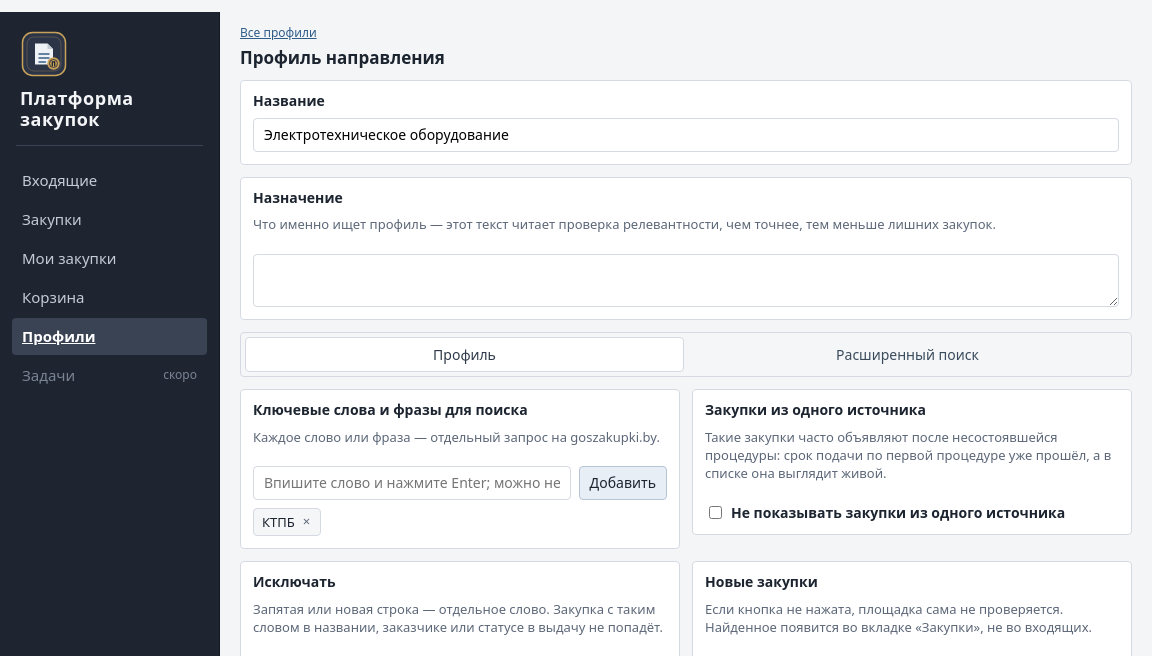
Test case: ProfileApp › saves a pending word before turning watch on
Type "НКУ" into the field named "Добавить слово" at (412, 483), box x1=253 y1=466 x2=571 y2=500
(page scrolled)
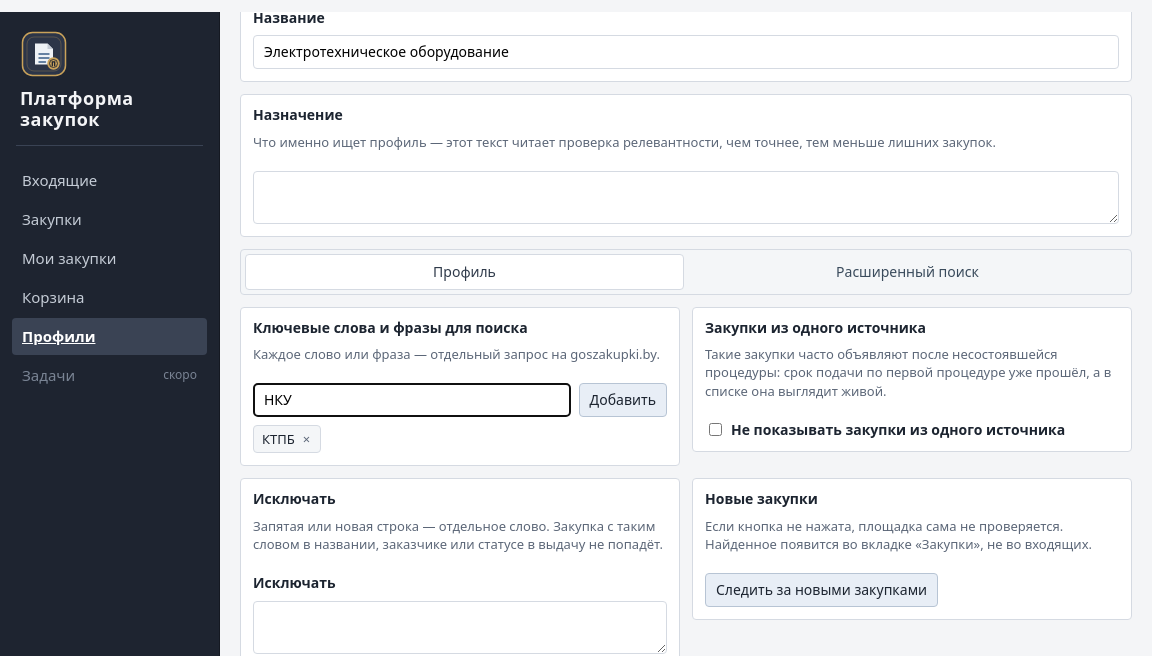
Click the button "Следить за новыми закупками" at (822, 590), box x1=705 y1=573 x2=938 y2=607
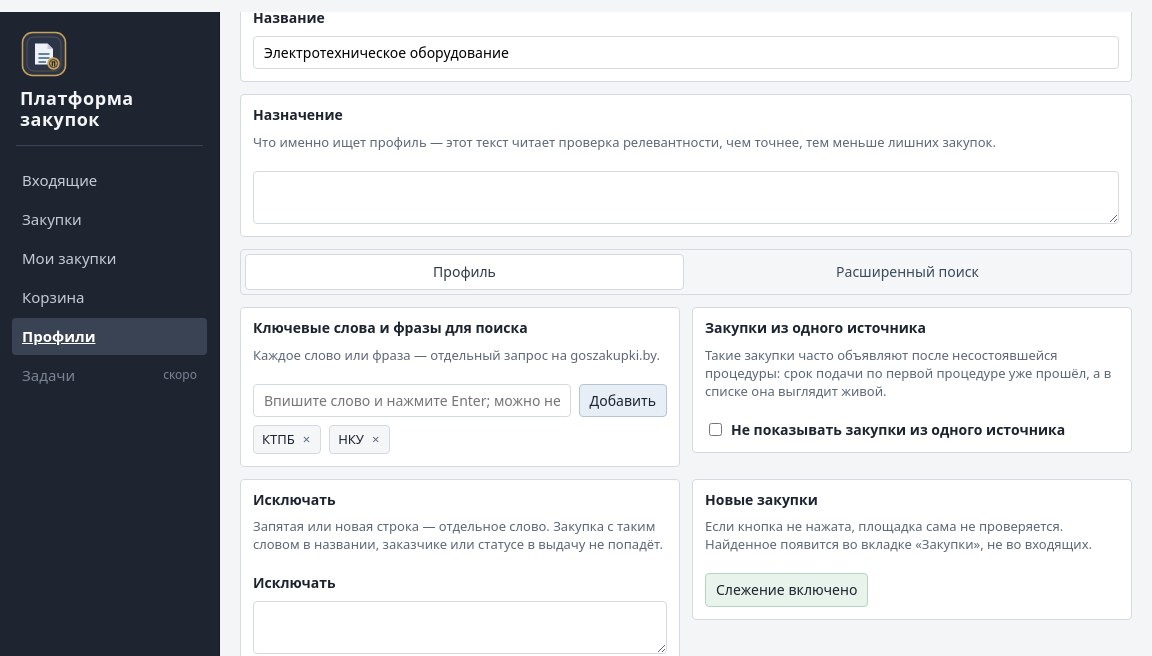
Expected: the button "Слежение включено" is shown, x1=705 y1=574 x2=868 y2=607
Expected: the button named "Убрать НКУ" is shown, x1=368 y1=433 x2=383 y2=446
Expected: the field named "Добавить слово" is empty, x1=253 y1=384 x2=571 y2=417
